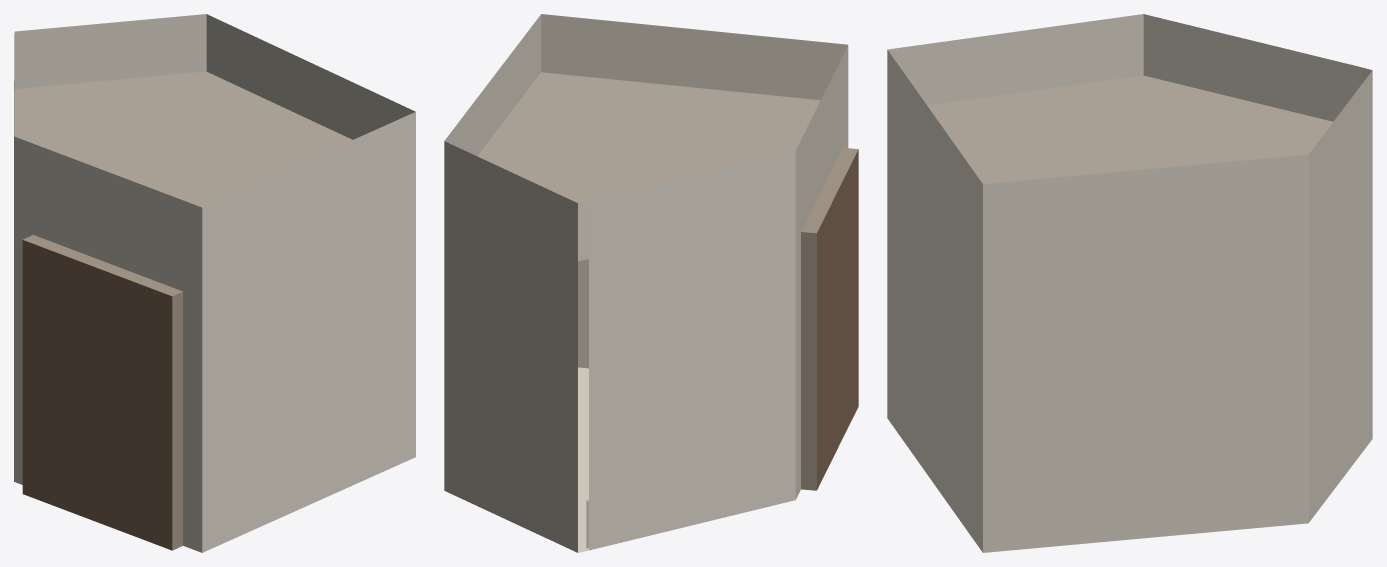
3 views of the same model, side by side, from view 1: azimuth 30°, elevation 25°; view 2: azimuth 150°, elevation 25°; view 3: azimuth 270°, elevation 25° (orthographic). The views are drawn at different scales.
Visible parts, largest first — view 1: W-32#1; view 2: W-32#1; view 3: W-32#1.
Boxes of the visible parts, bbox=[...] form: W-32#1: bbox=[14, 14, 415, 552]; W-32#1: bbox=[444, 14, 858, 552]; W-32#1: bbox=[887, 14, 1372, 552].
Size of the model in its own units: 3.63 by 3.6 by 4.29.
